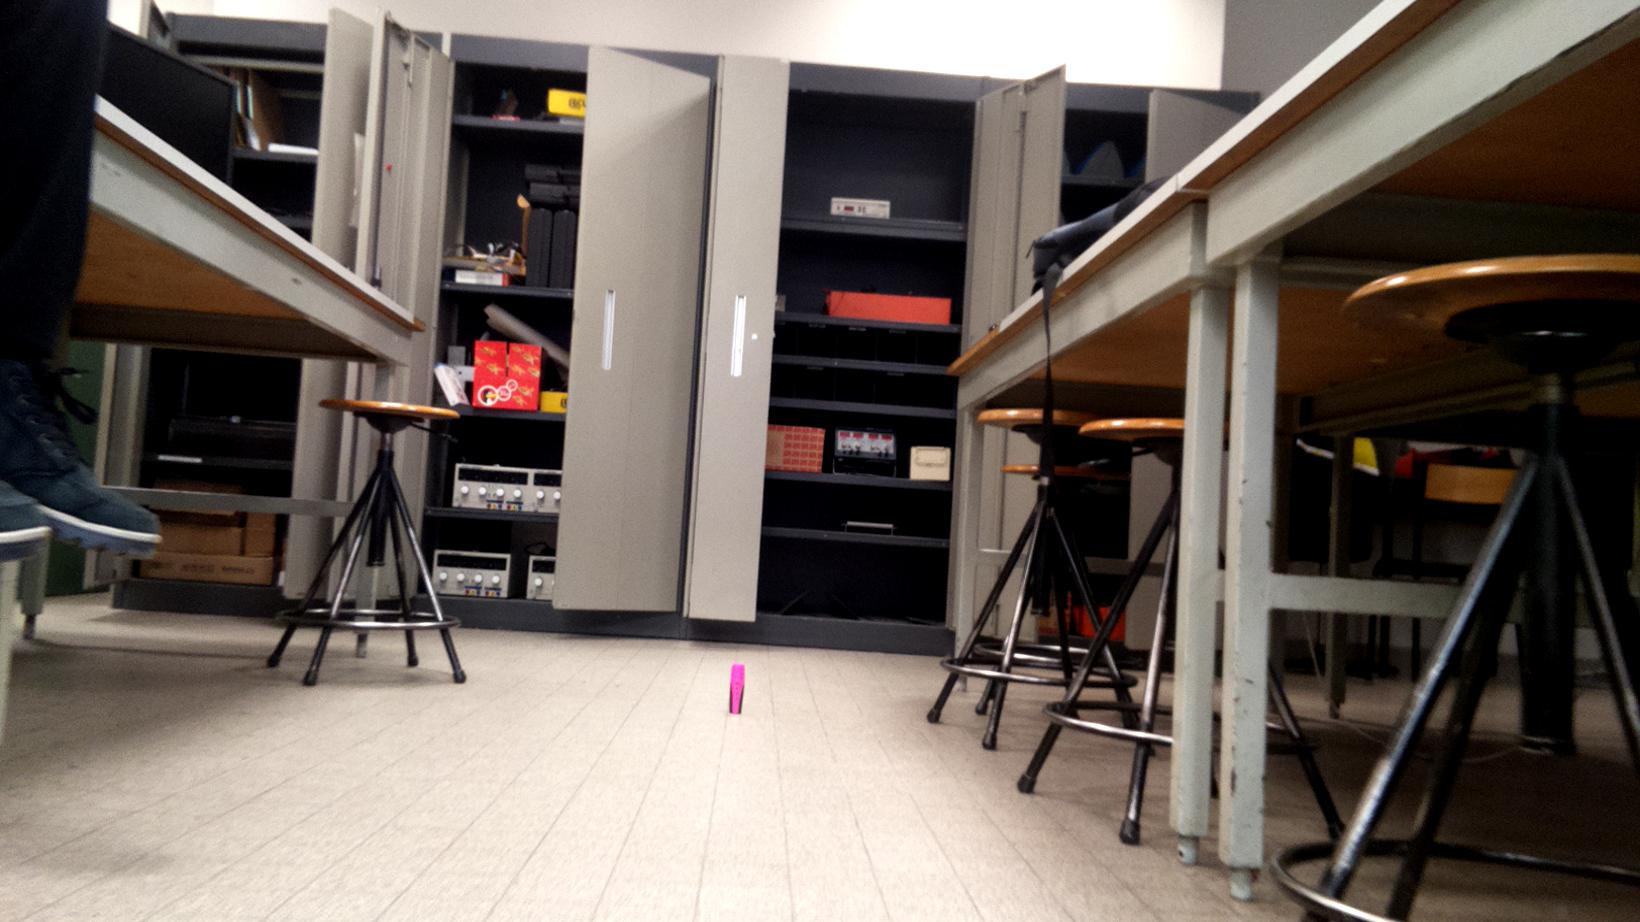small: (728, 662, 746, 716)
